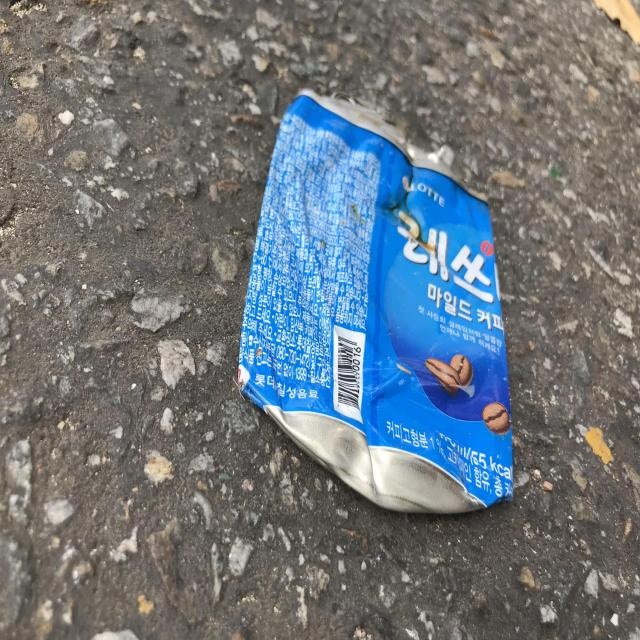can: (238, 89, 514, 513)
